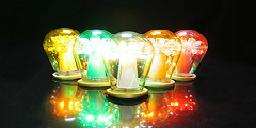LED: (104, 29, 151, 105), (175, 27, 210, 86), (40, 26, 78, 80), (77, 28, 108, 83)
